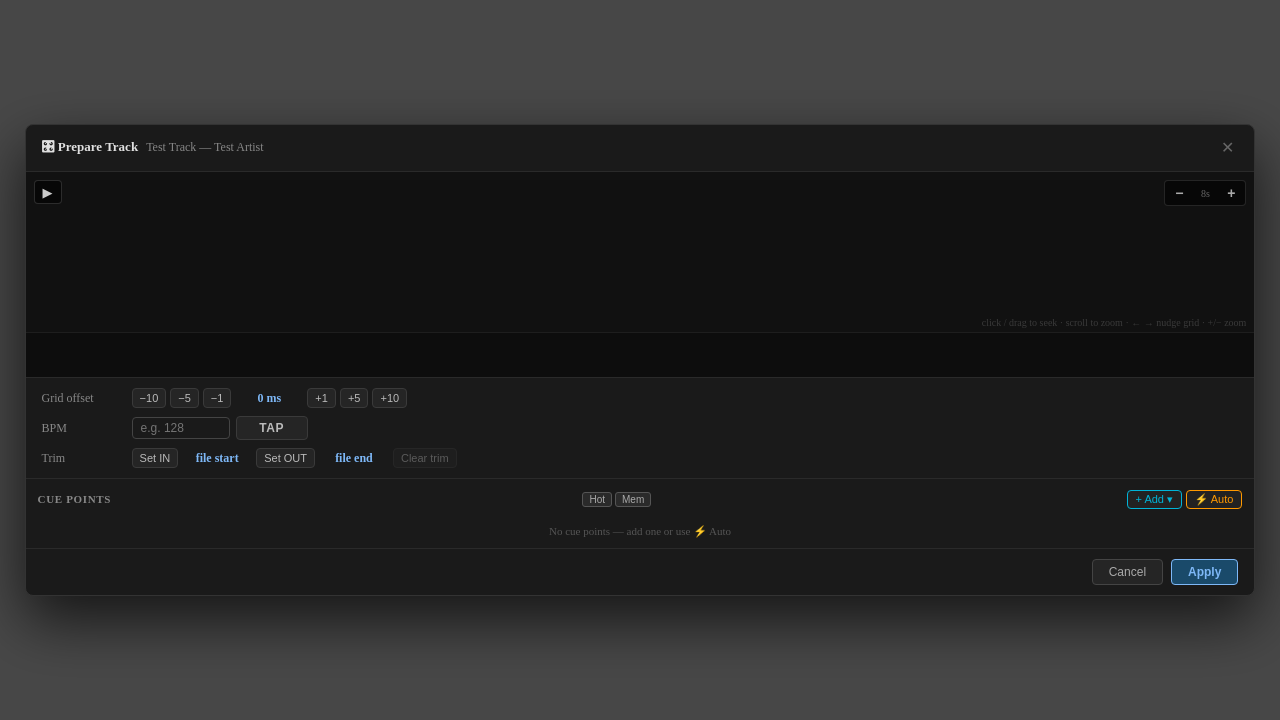
Test case: BeatGridEditor — trim controls (#463) › warns about unsaved trim changes when closing
Click the button "Set IN" at coordinates (155, 458), box top-left (132, 448), bottom-right (178, 468)
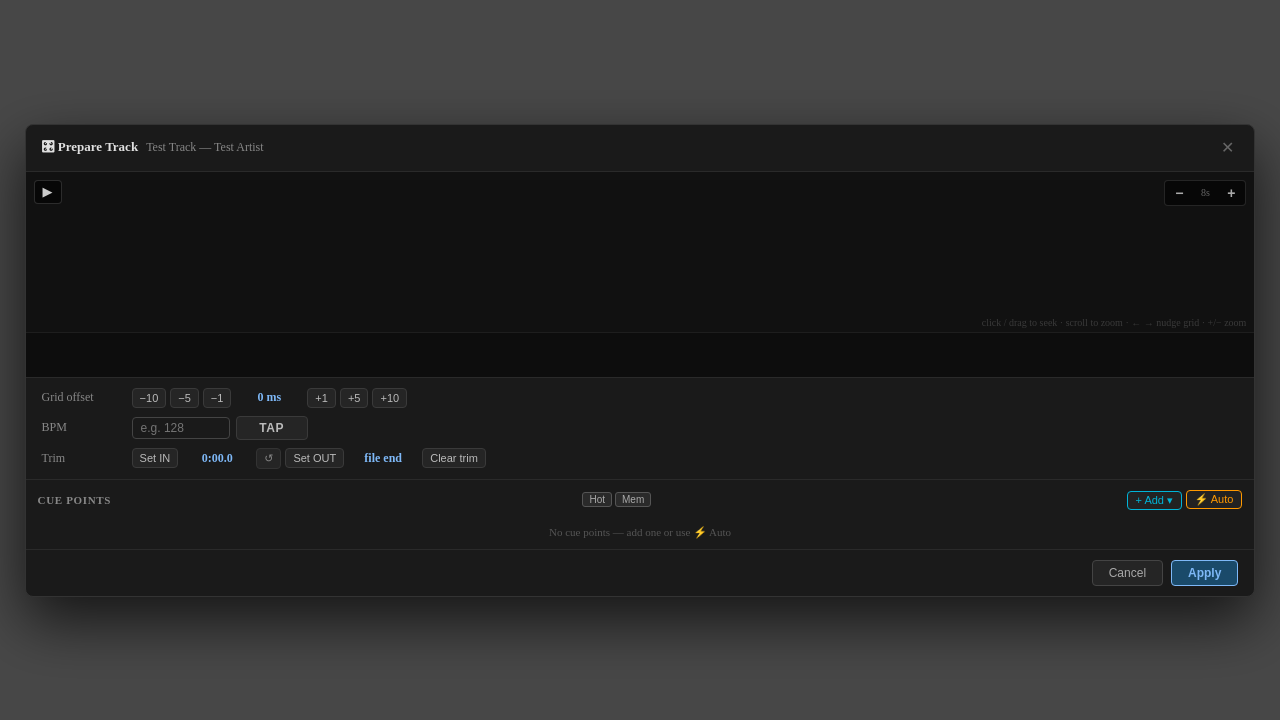
Click the button titled "Close (Esc)" at coordinates (1228, 148), box top-left (1217, 140), bottom-right (1238, 156)
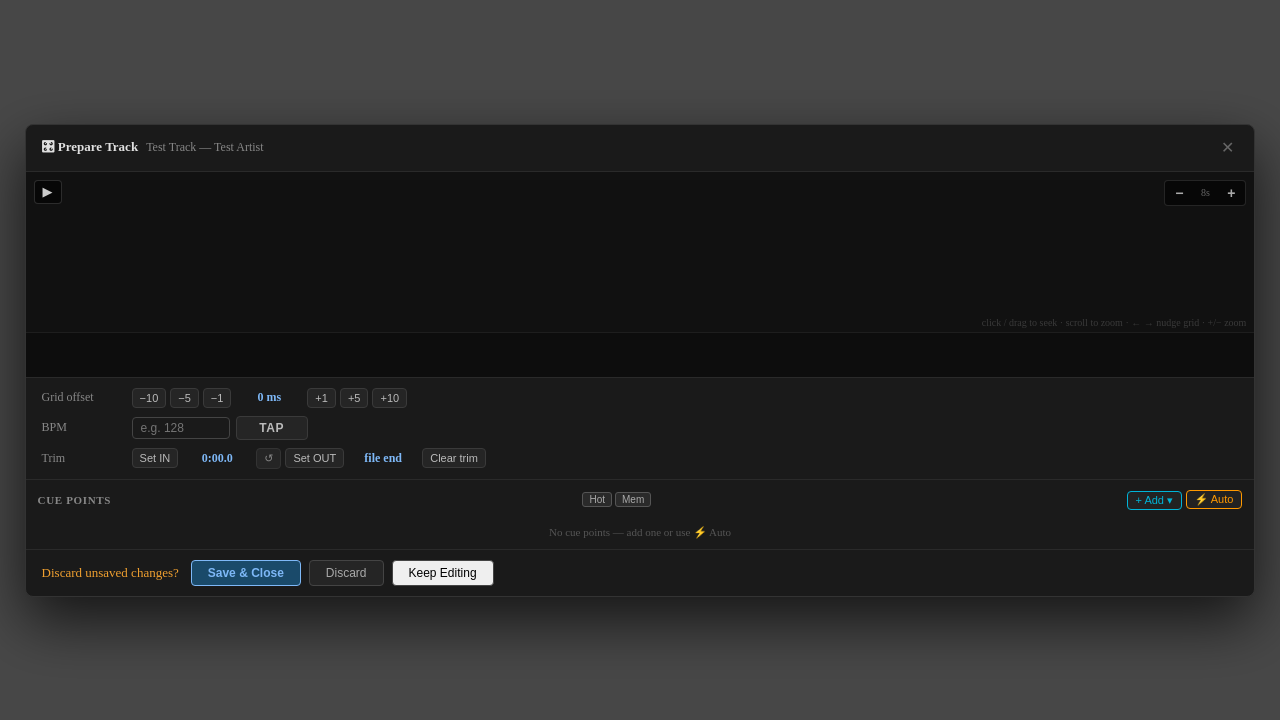
Expected: the text "Discard unsaved changes?" is shown, top-left (42, 564), bottom-right (179, 580)
